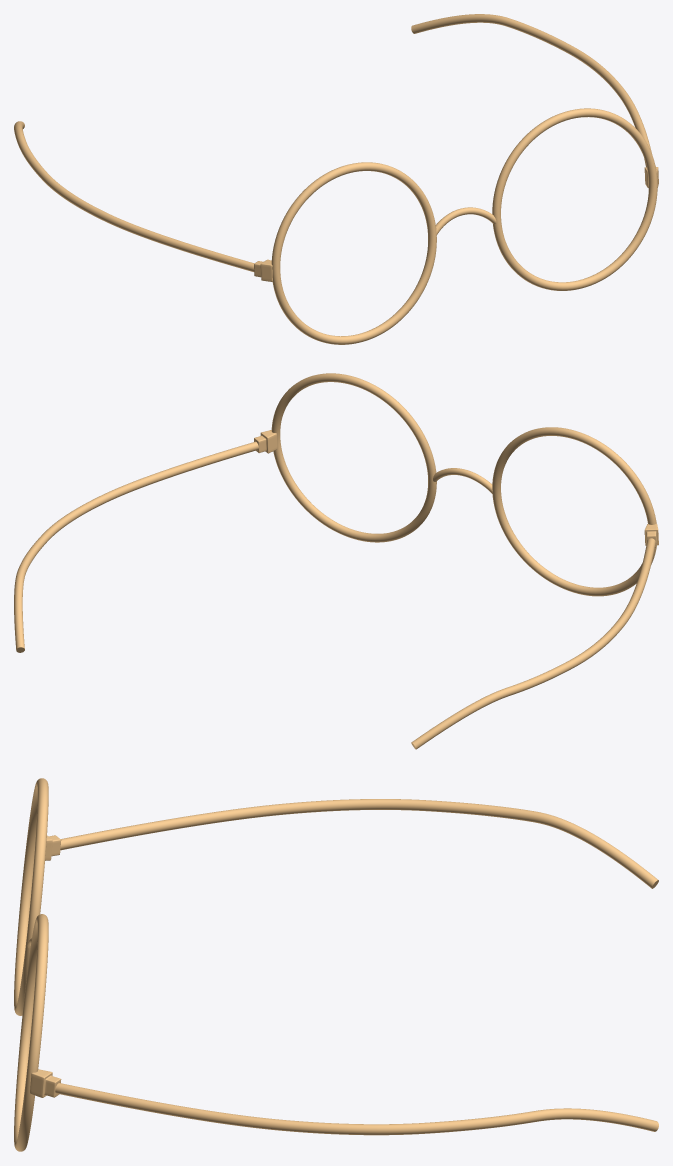
Rendered from Round.gltf.
3 views of the same model, one above another, from view 1: azimuth 30°, elevation 25°; view 2: azimuth 150°, elevation 25°; view 3: azimuth 270°, elevation 25° (orthographic). The views are drawn at different scales.
Parts seen in each view (by area): view 1: glasses3; view 2: glasses3; view 3: glasses3.
Part boxes in pixels (bbox=[...]): glasses3: bbox=[14, 14, 658, 344]; glasses3: bbox=[14, 373, 658, 749]; glasses3: bbox=[14, 778, 658, 1151].
Bounding box in the file's own units: 7.5 × 2.28 × 6.2.
